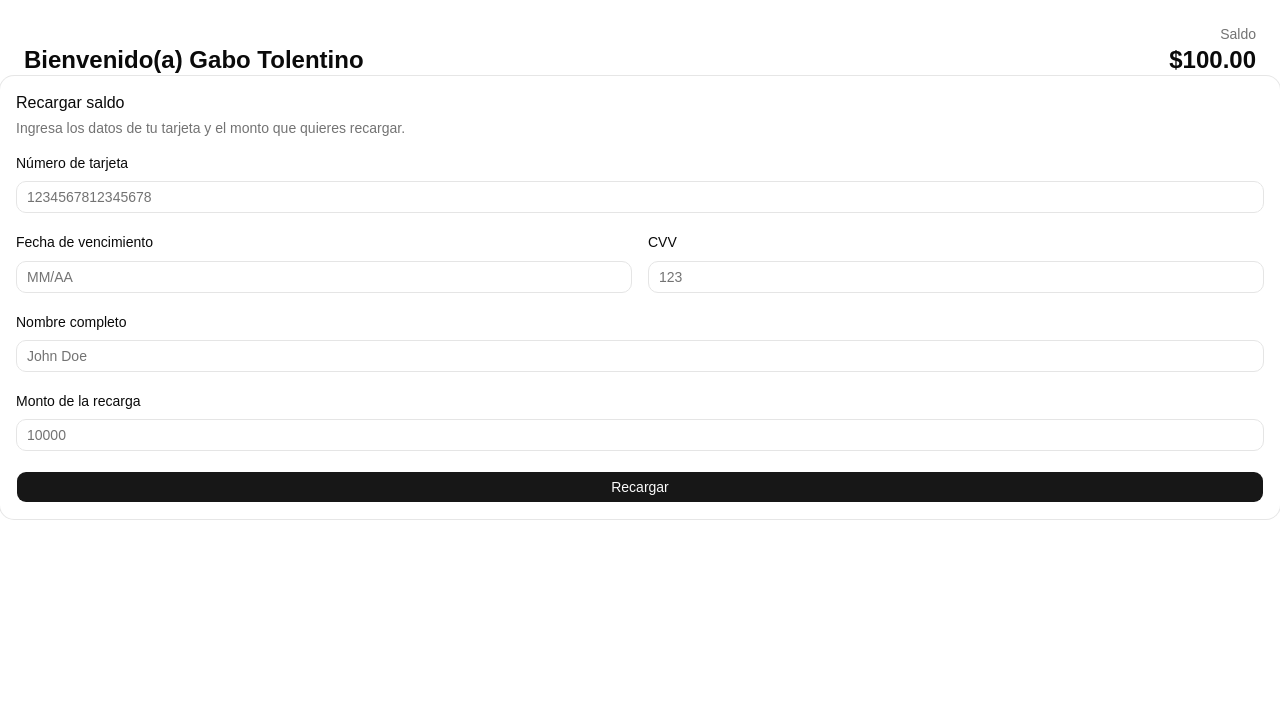
Test: PaymentForm › actualiza el saldo del dashboard tras un cobro exitoso
Expected: the text "$100.00" is shown, [1169,44,1256,76]
Type "4111111111111111" into the field labelled "Número de tarjeta".
click(640, 197); type("4111111111111111")  # box [16,181,1264,213]
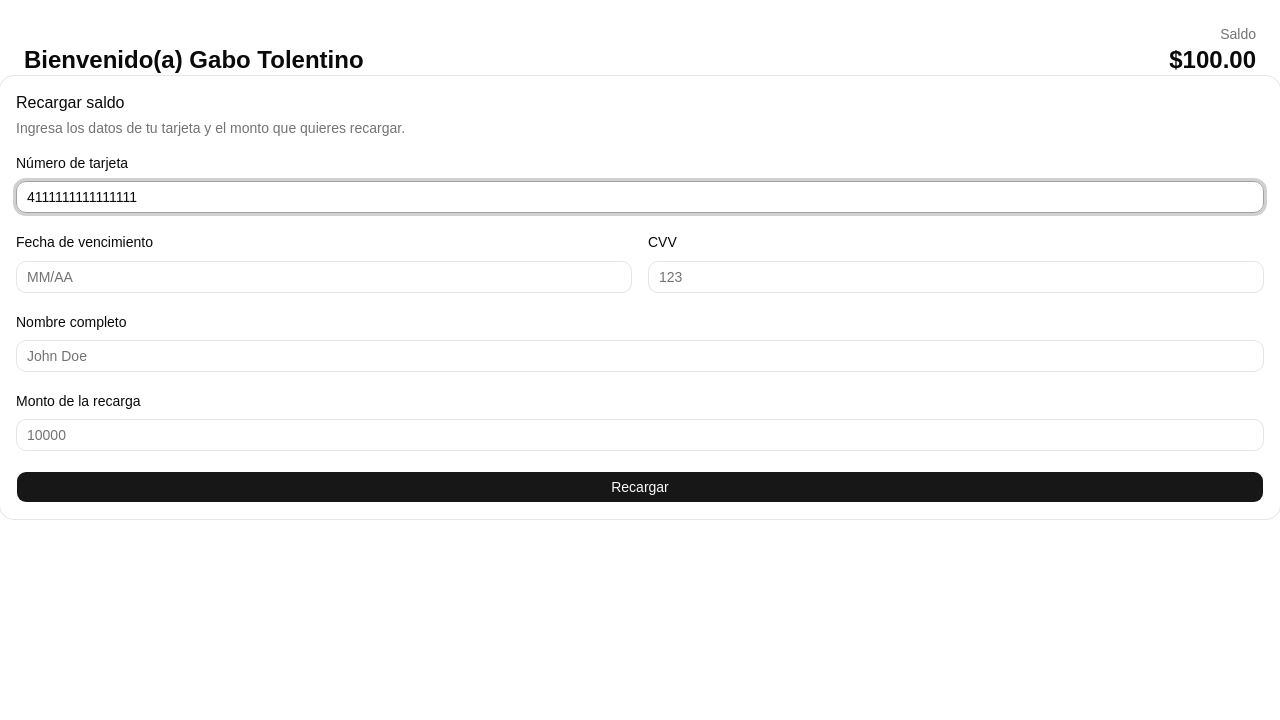
Type "12/99" into the field labelled "Fecha de vencimiento".
click(324, 276); type("12/99")  # box [16,260,632,292]
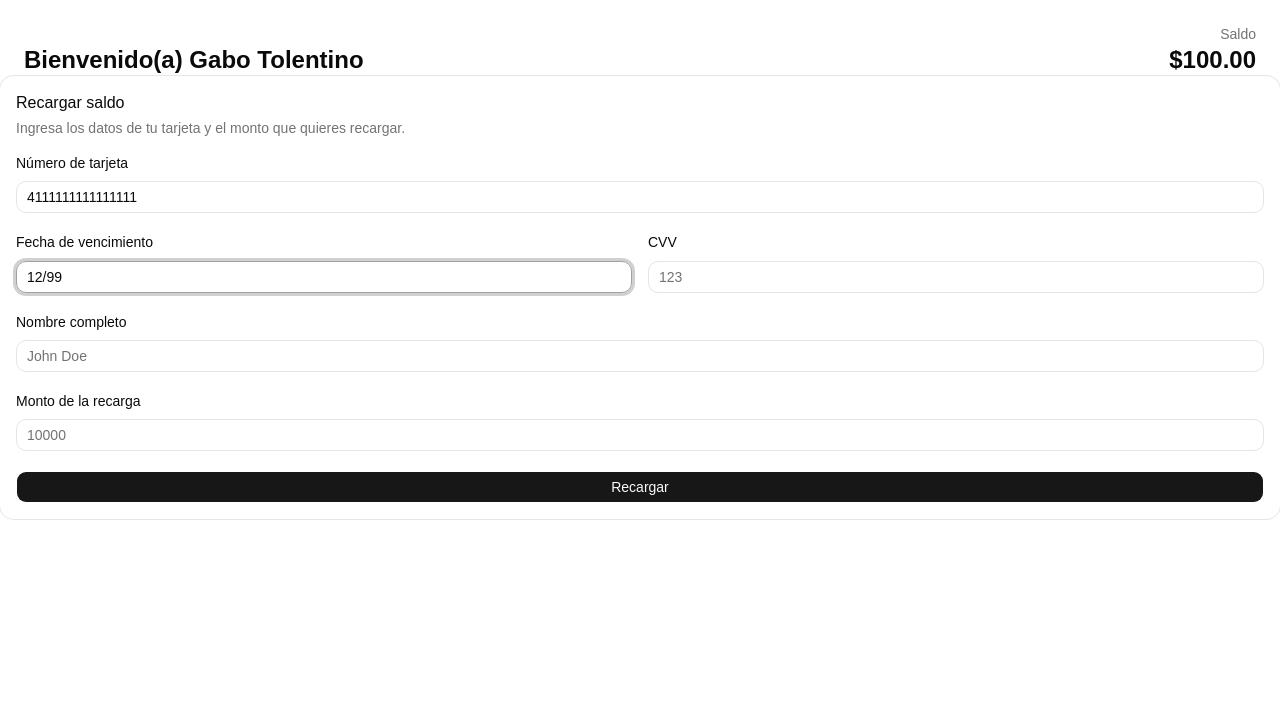
Type "123" into the password field labelled "CVV".
click(956, 276); type("123")  # box [648,260,1264,292]
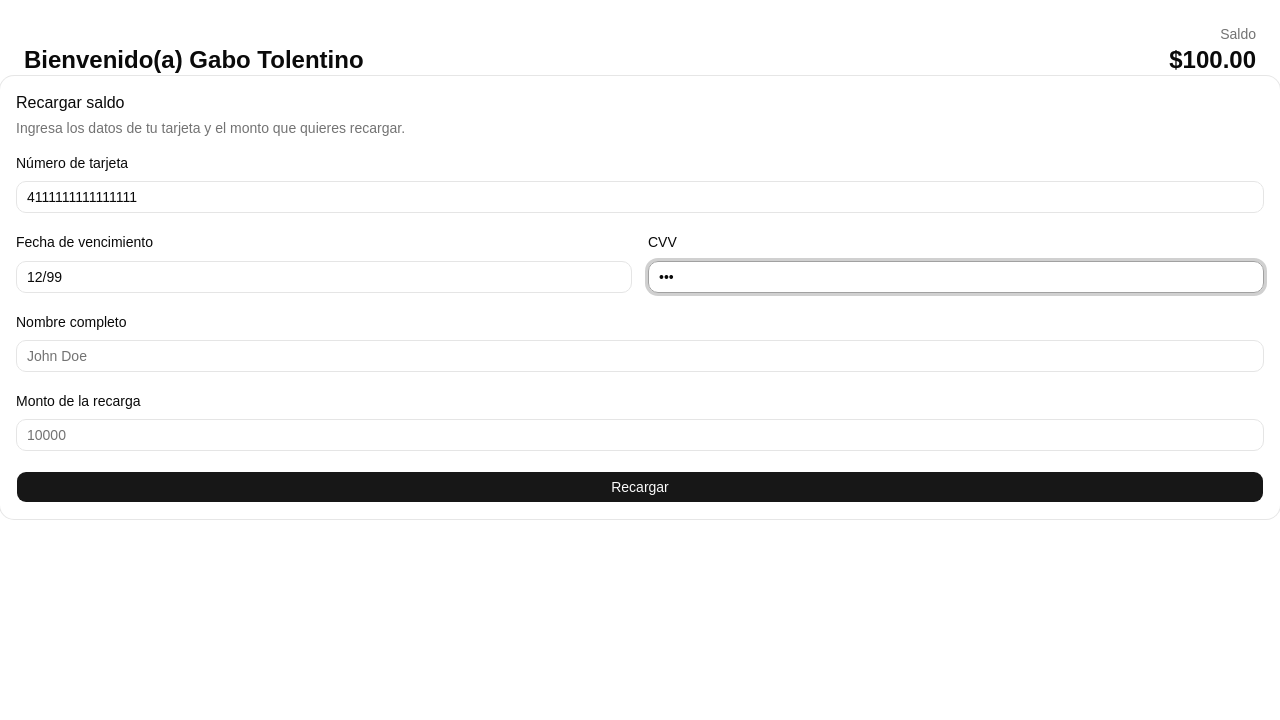
Type "Gabo T" into the field labelled "Nombre completo".
click(640, 356); type("Gabo T")  # box [16,340,1264,372]
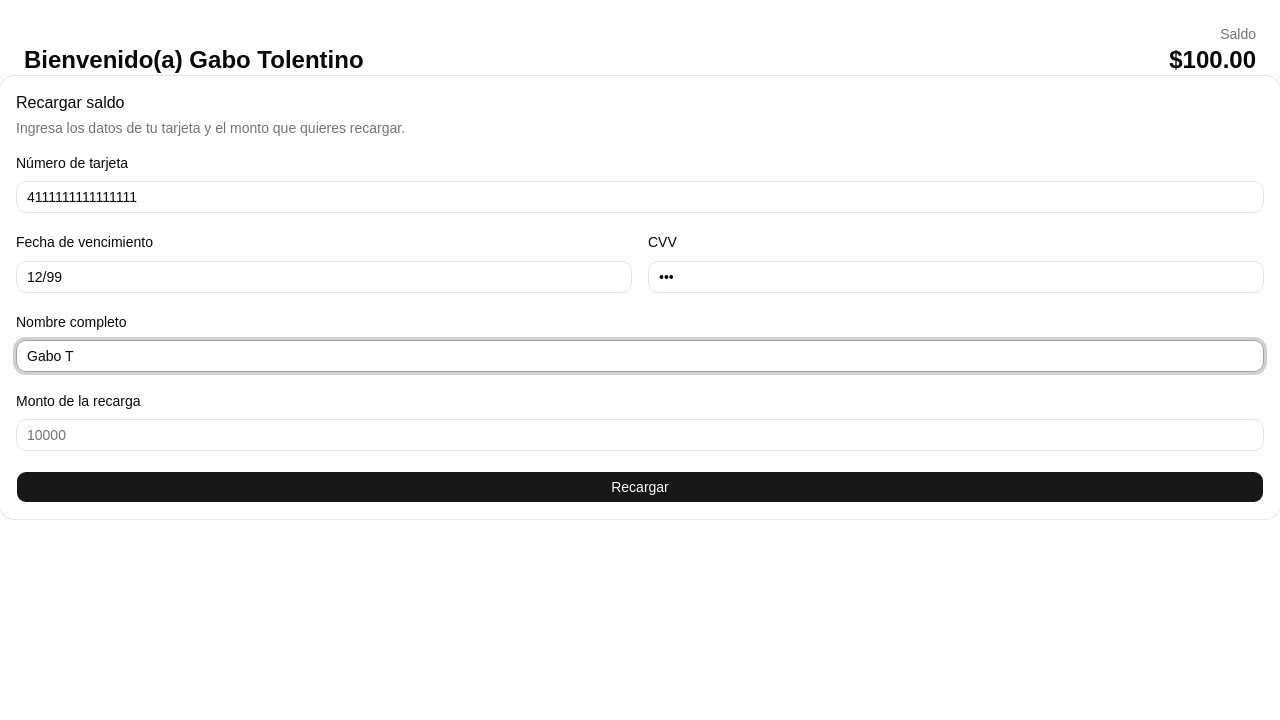
Type "500" into the number field labelled "Monto de la recarga".
click(640, 435); type("500")  # box [16,419,1264,451]
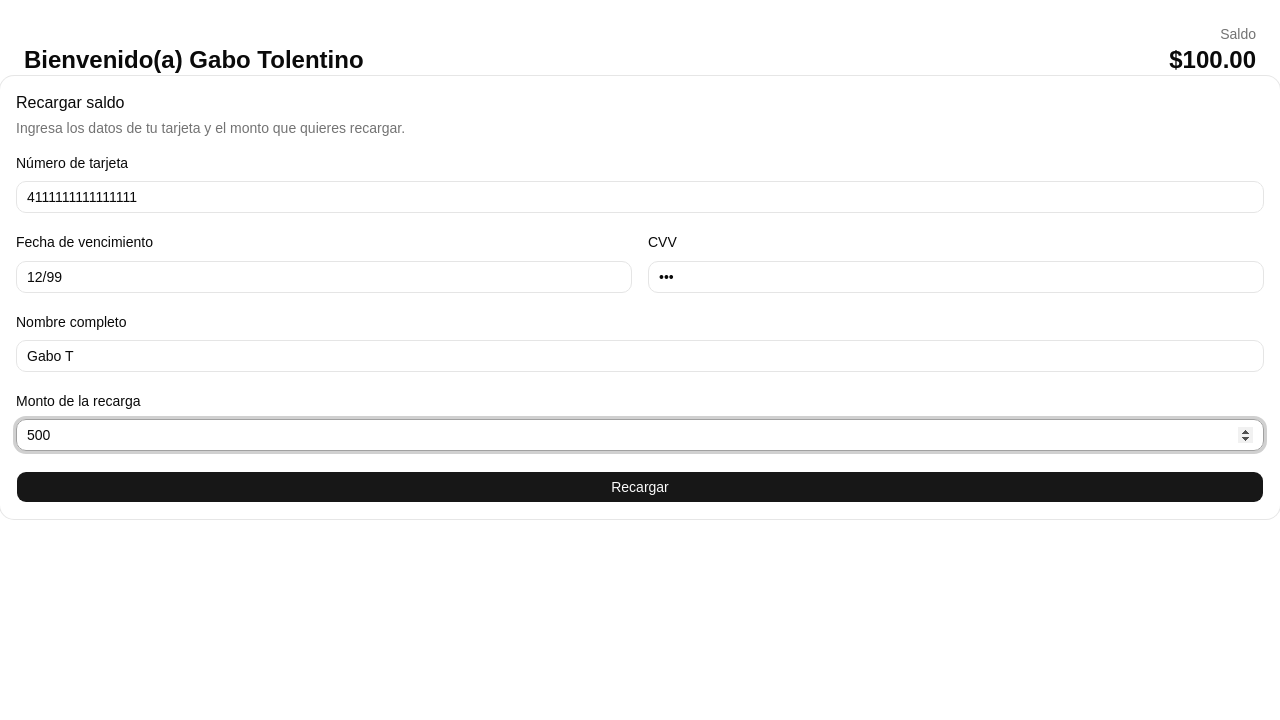
Click the button "Recargar".
click(640, 487)  # box [16,471,1264,503]
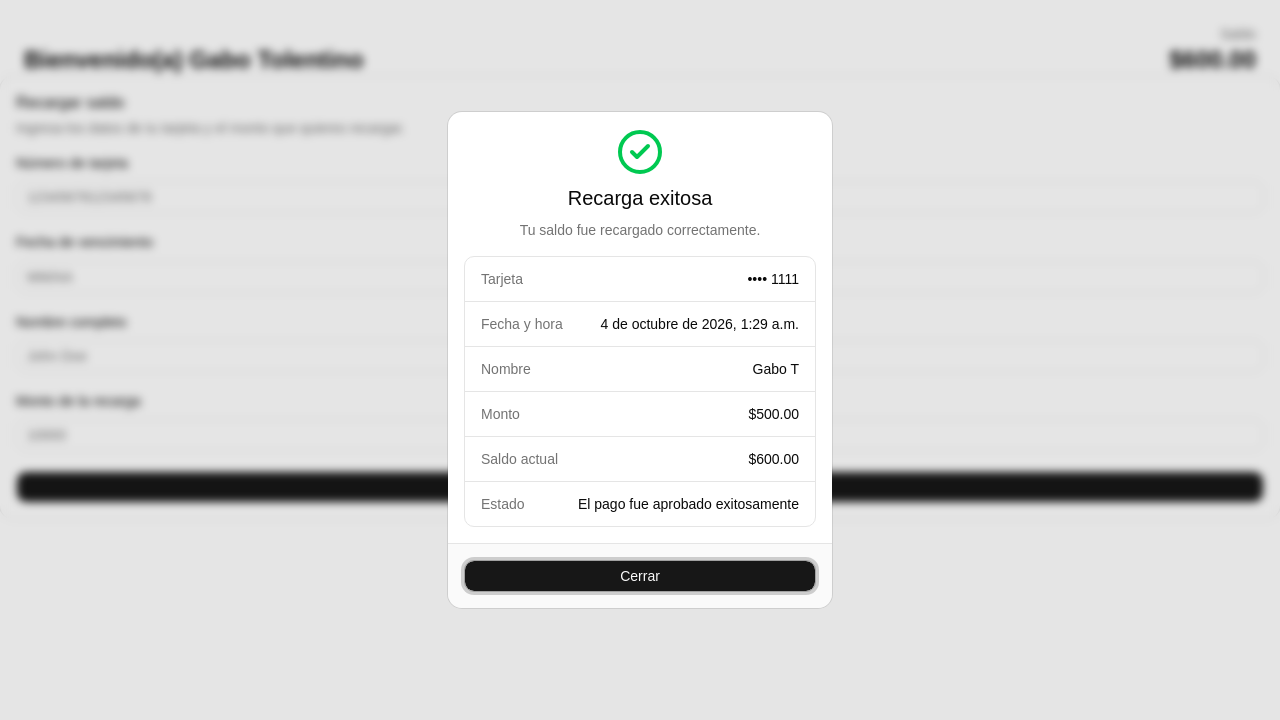
Expected: the heading "Recarga exitosa" is shown, [568,184,712,212]
Expected: the text "$600.00" in the row of "Gabo Tolentino" is shown, [1169,46,1256,73]
